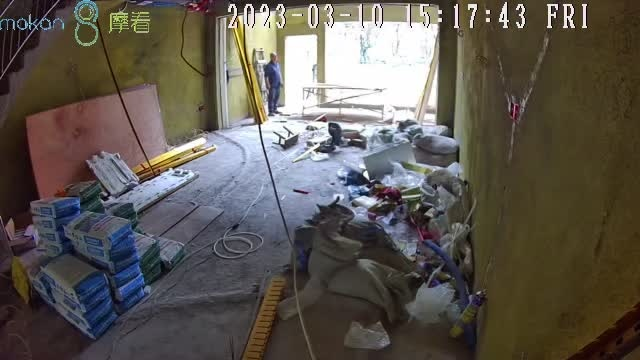people: (265, 51, 282, 117)
window: (328, 25, 435, 106)
